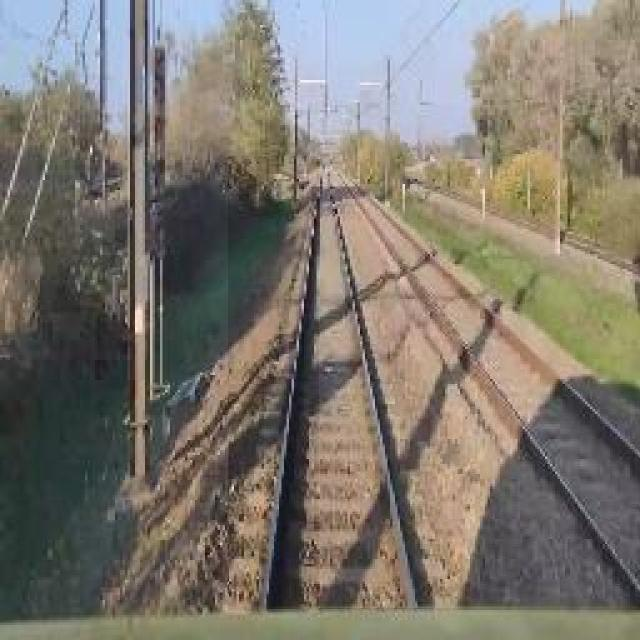rail: (320, 156, 640, 609), (230, 157, 456, 612)
